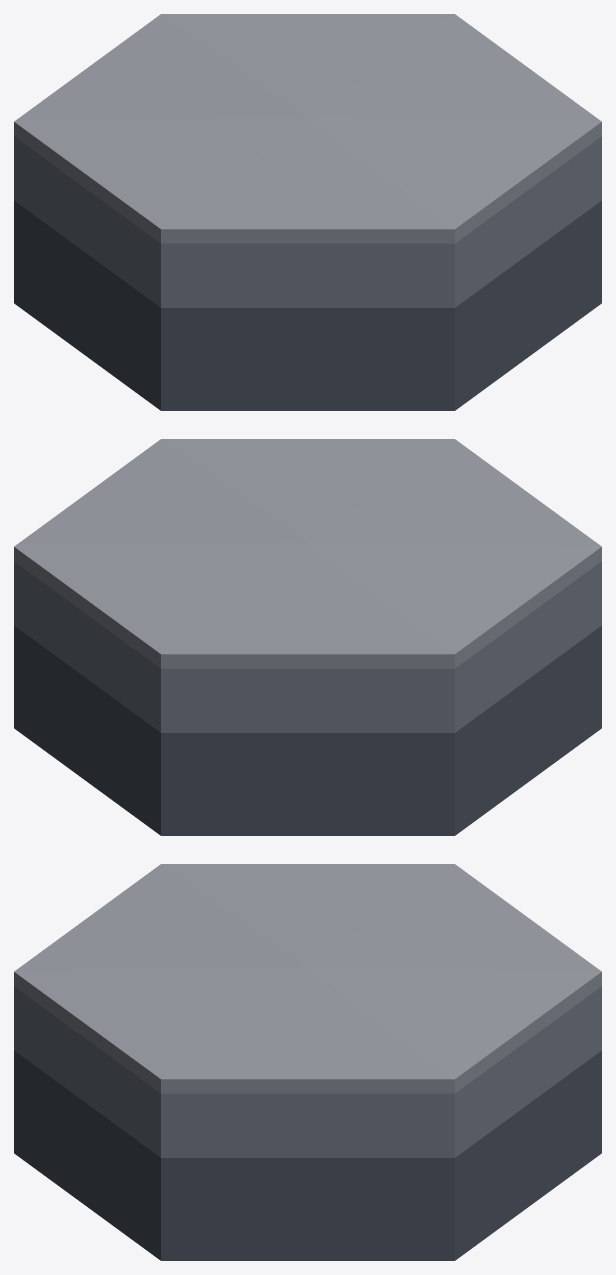
Rendered from AW-HEX-MOON-REGOLITH-v0.1.glb.
3 views of the same model, one above another, from view 1: azimuth 30°, elevation 25°; view 2: azimuth 150°, elevation 25°; view 3: azimuth 270°, elevation 25° (orthographic).
Parts seen in each view (by area): view 1: AW-HEX-MOON-REGOLITH-v01; view 2: AW-HEX-MOON-REGOLITH-v01; view 3: AW-HEX-MOON-REGOLITH-v01.
Part boxes in pixels (box(x1,y1,x2,y2)): AW-HEX-MOON-REGOLITH-v01: box(14, 14, 601, 410); AW-HEX-MOON-REGOLITH-v01: box(14, 439, 601, 835); AW-HEX-MOON-REGOLITH-v01: box(14, 864, 601, 1260).
Size of the model in its own units: 3.81 by 1.54 by 4.4.
